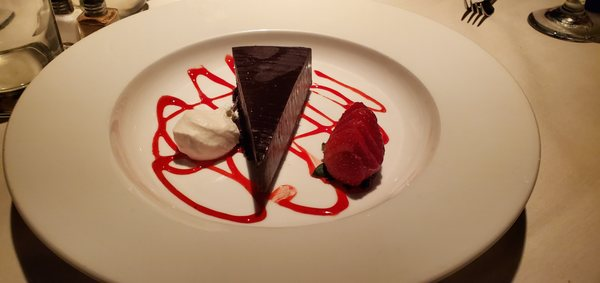burger: (461, 0, 495, 28)
